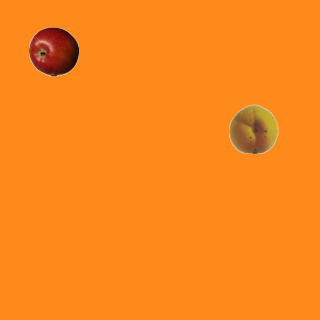Apple Braeburn: (28, 26, 78, 76)
Peach 2: (228, 103, 278, 153)
